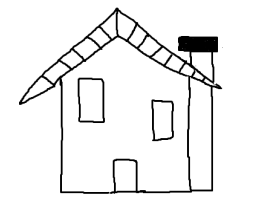chimney: (177, 36, 218, 82)
door: (106, 151, 146, 196)
open_window: (78, 77, 105, 122), (151, 99, 174, 142)
single_line_roof: (18, 8, 222, 104)
wall: (59, 68, 193, 200)
